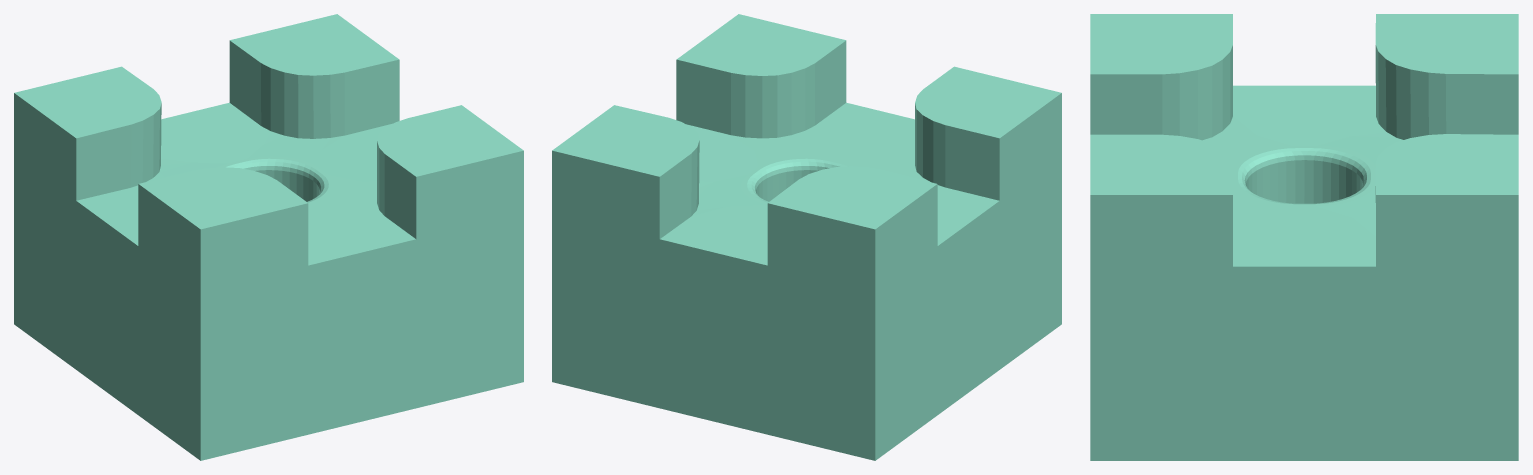
Rendered from HatchBlock.fbx.
The picture shows the model from 3 angles, left to right: view 1: azimuth 30°, elevation 25°; view 2: azimuth 150°, elevation 25°; view 3: azimuth 270°, elevation 25°; orthographic projection. The views are drawn at different scales.
Parts seen in each view (by area): view 1: Hatch; view 2: Hatch; view 3: Hatch.
Boxes of the visible parts, box(x1,y1,x2,y2) form: Hatch: box(14, 14, 523, 460); Hatch: box(552, 14, 1061, 460); Hatch: box(1090, 14, 1518, 460).
Bounding box in the file's own units: 400 × 275 × 400.
